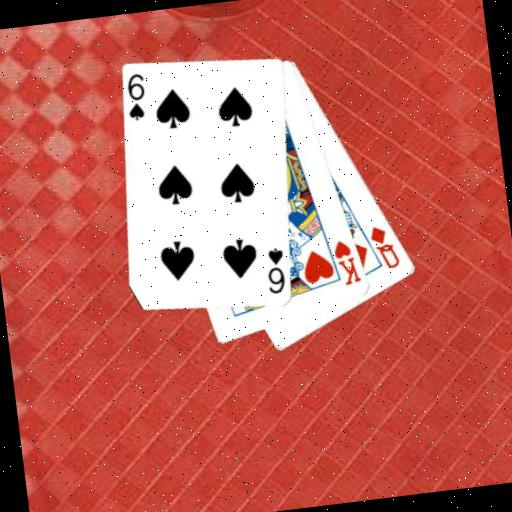6S: (261, 244, 291, 297), (121, 70, 151, 123)
KH: (330, 236, 364, 289)
QD: (366, 221, 403, 273)
